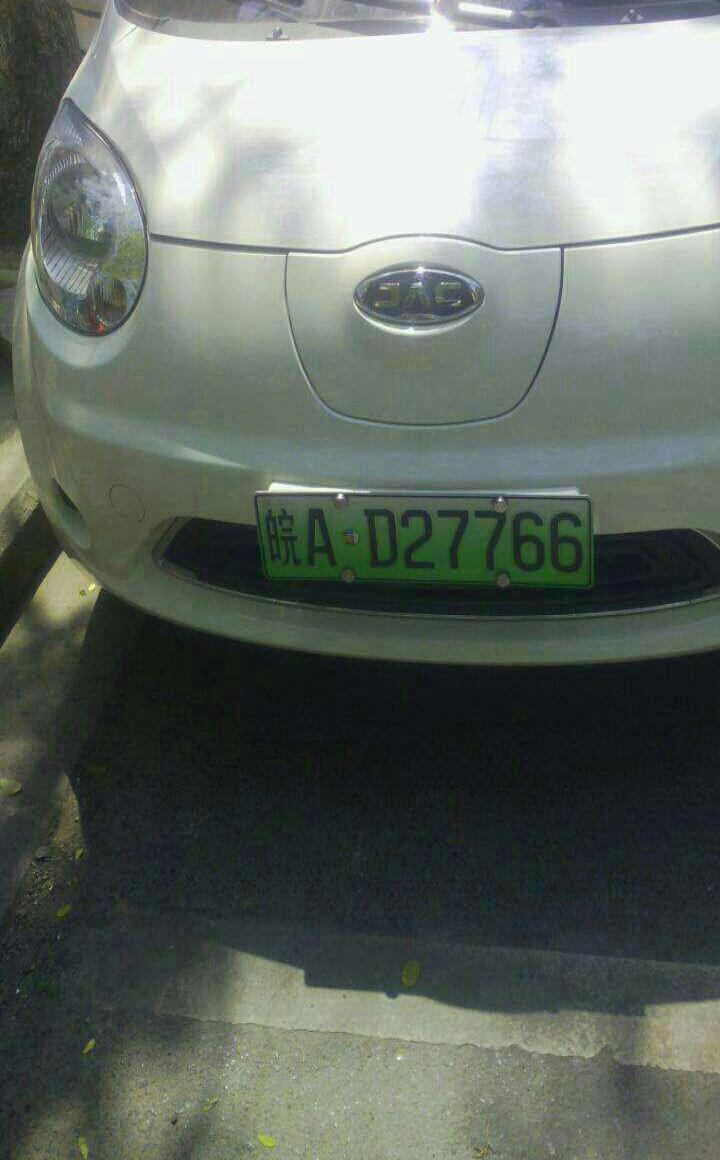car: (249, 487, 601, 597)
